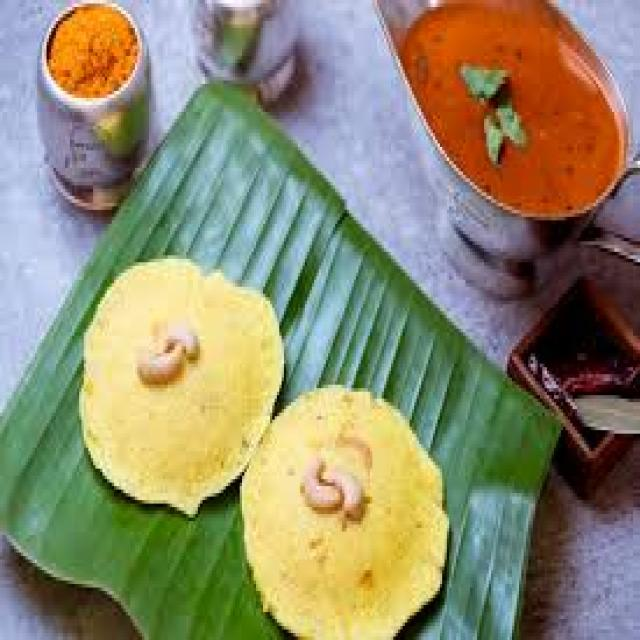IDLI: (79, 255, 282, 511), (242, 392, 447, 637)
